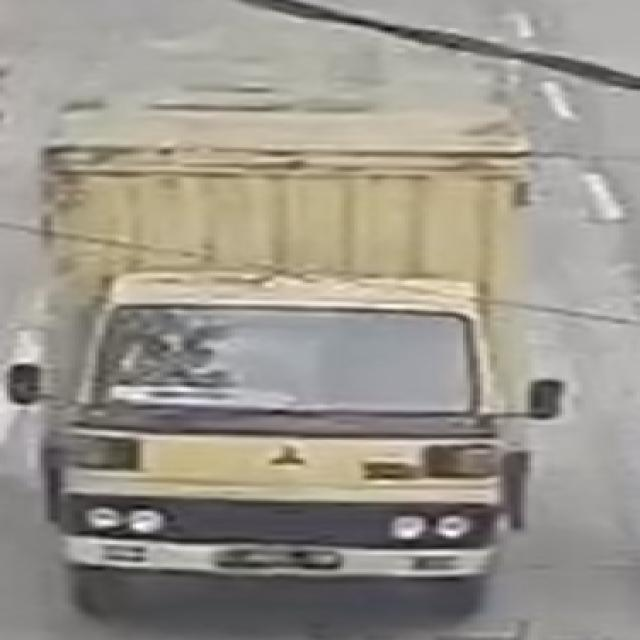Truck: (9, 26, 604, 636)
